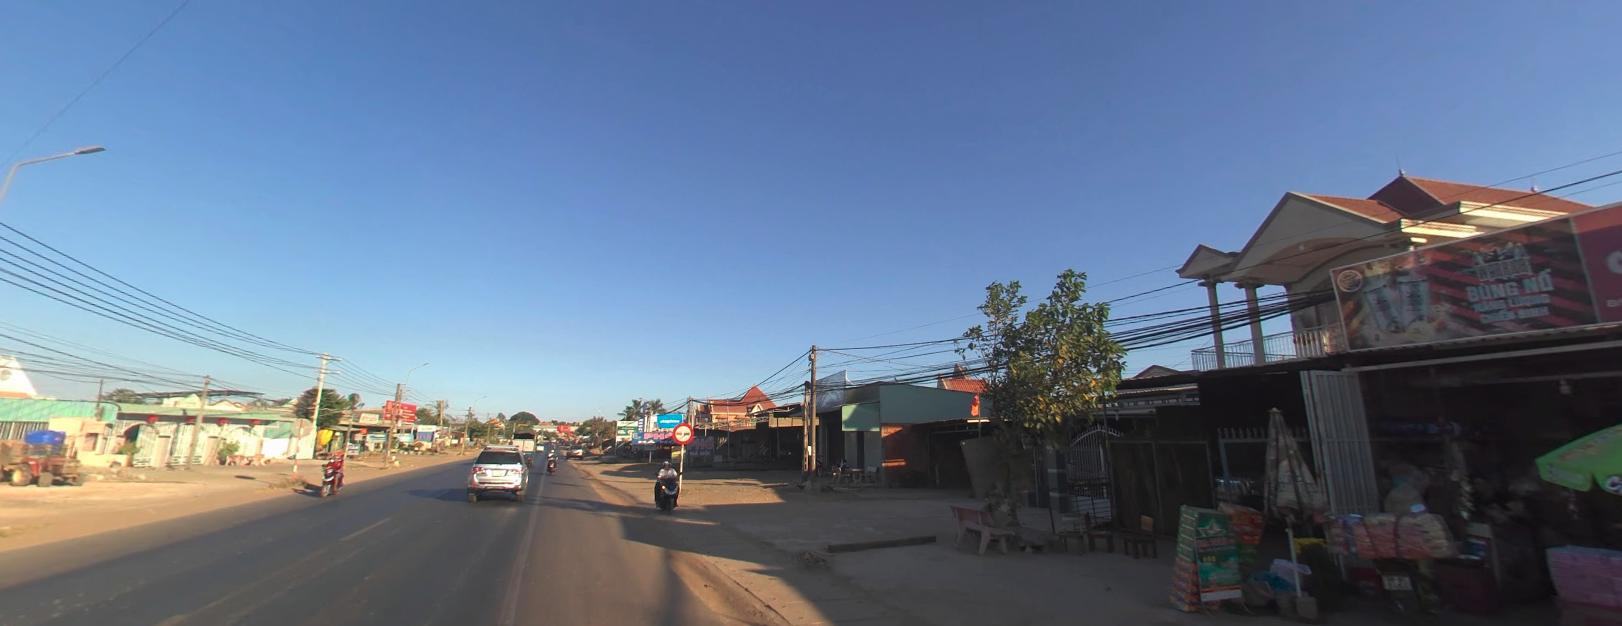Cam con lai: (671, 421, 693, 443)
